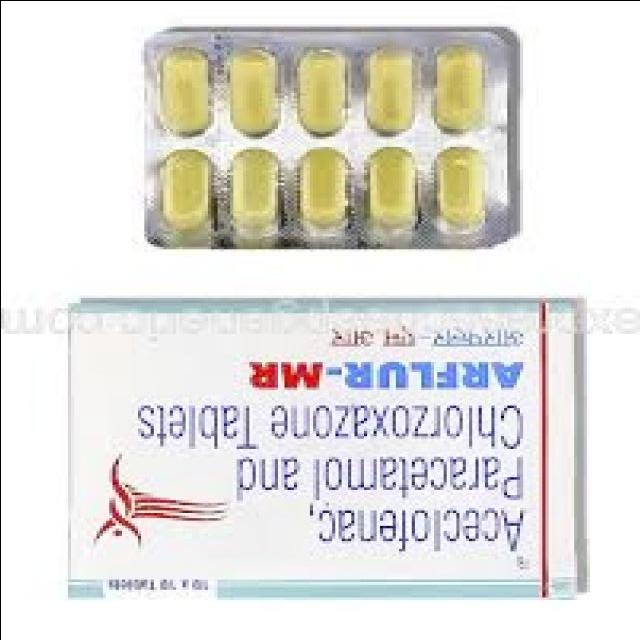authentic: (55, 291, 601, 604), (135, 16, 528, 260)
